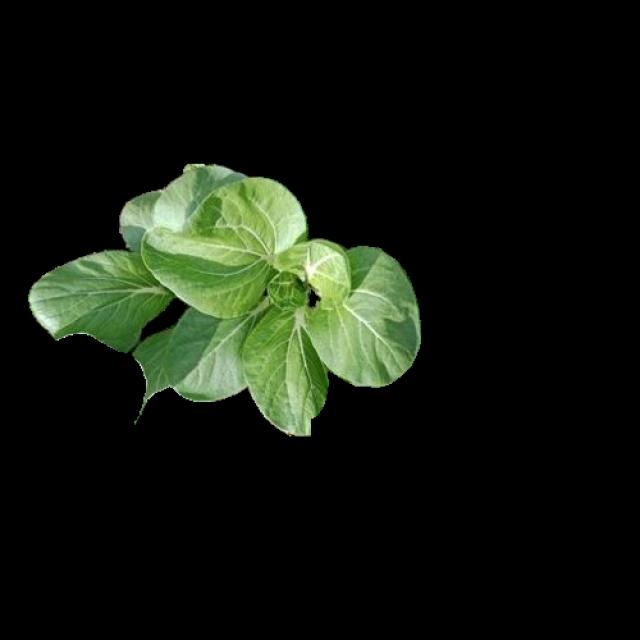healthy: (22, 160, 414, 431)
not-mature: (25, 162, 418, 434)
